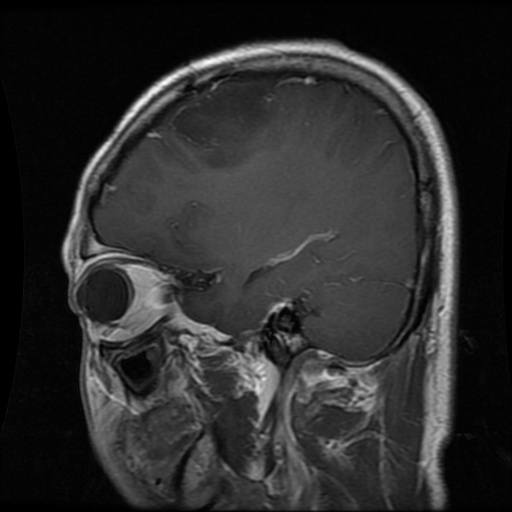glioma: (168, 81, 285, 169)
